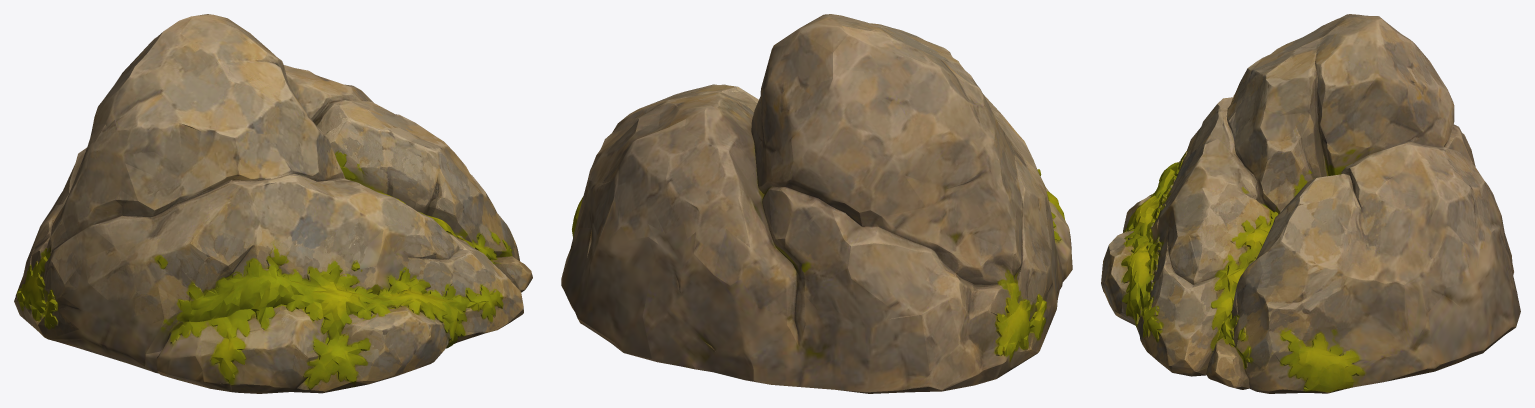
File: mossy-stone-cluster.glb
3 views of the same model, side by side, from view 1: azimuth 30°, elevation 25°; view 2: azimuth 150°, elevation 25°; view 3: azimuth 270°, elevation 25° (orthographic). The views are drawn at different scales.
Parts seen in each view (by area): view 1: output_unwrapped; view 2: output_unwrapped; view 3: output_unwrapped.
Part boxes in pixels (left/top/right/bottom): output_unwrapped: left=14, top=14, right=532, bottom=393; output_unwrapped: left=561, top=14, right=1072, bottom=393; output_unwrapped: left=1101, top=14, right=1520, bottom=393.
Bounding box in the file's own units: 1.35 × 0.8 × 1.21.
1 material, 1 textured.
